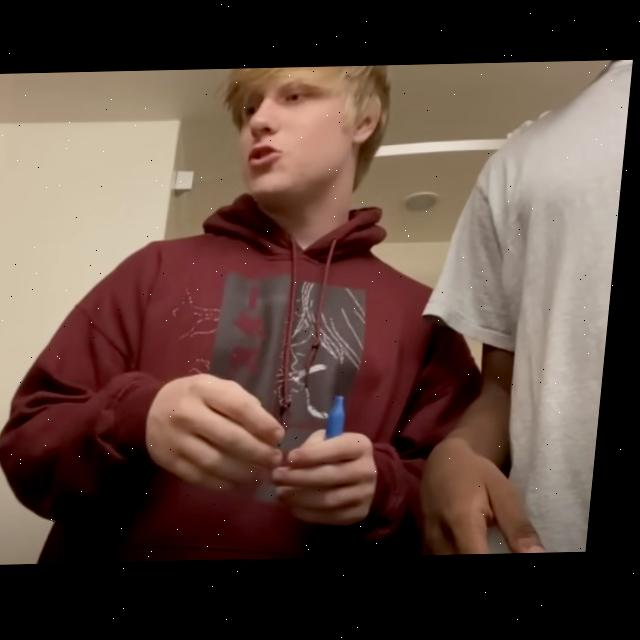vape: (333, 395, 357, 442)
